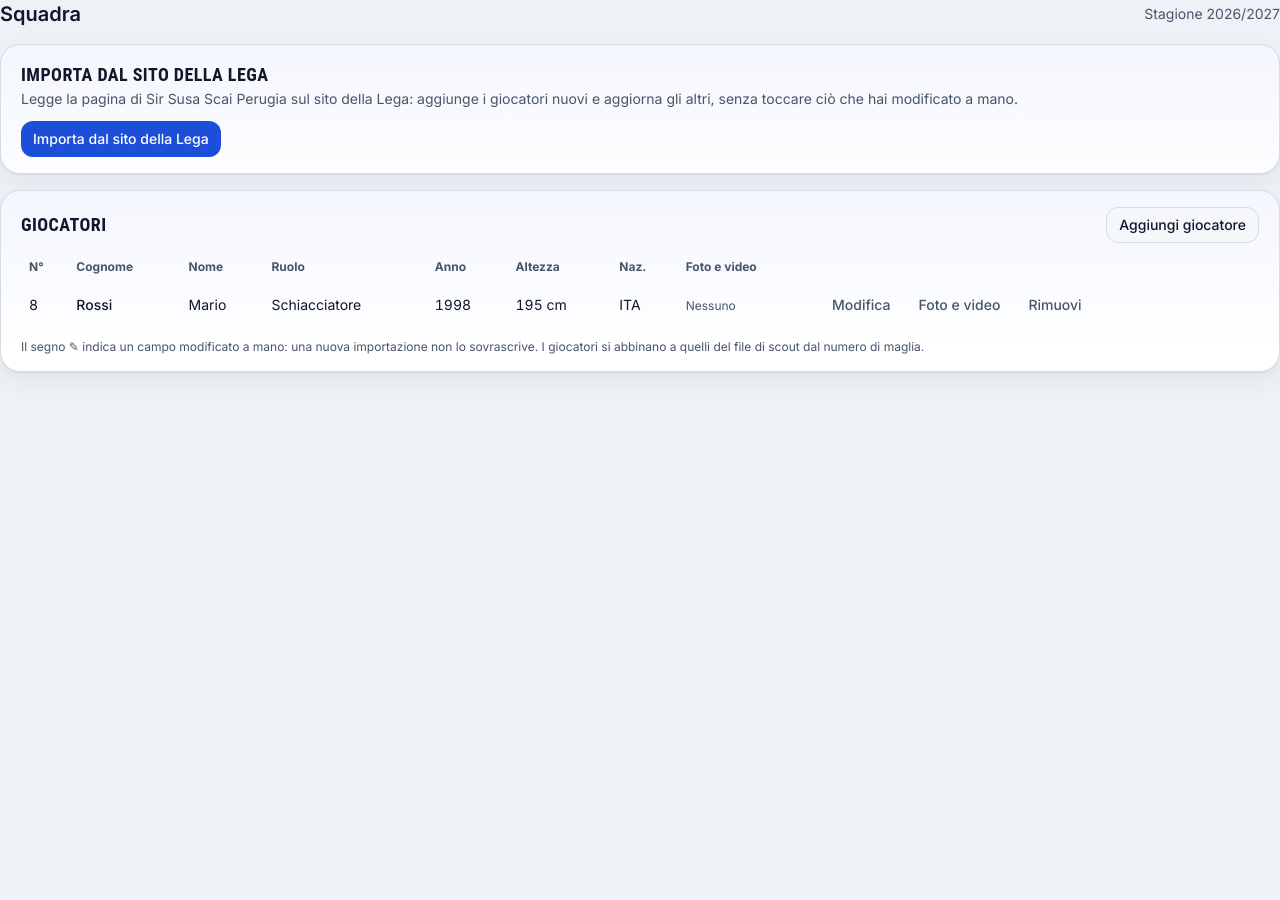
Scenario: page «Squadra» › edits a player: sends only the changed fields; a wrong value is refused before sending
Step 1. Click the button with aria-label "Modifica Rossi Mario" → point(861, 305), box [820, 287, 902, 323]
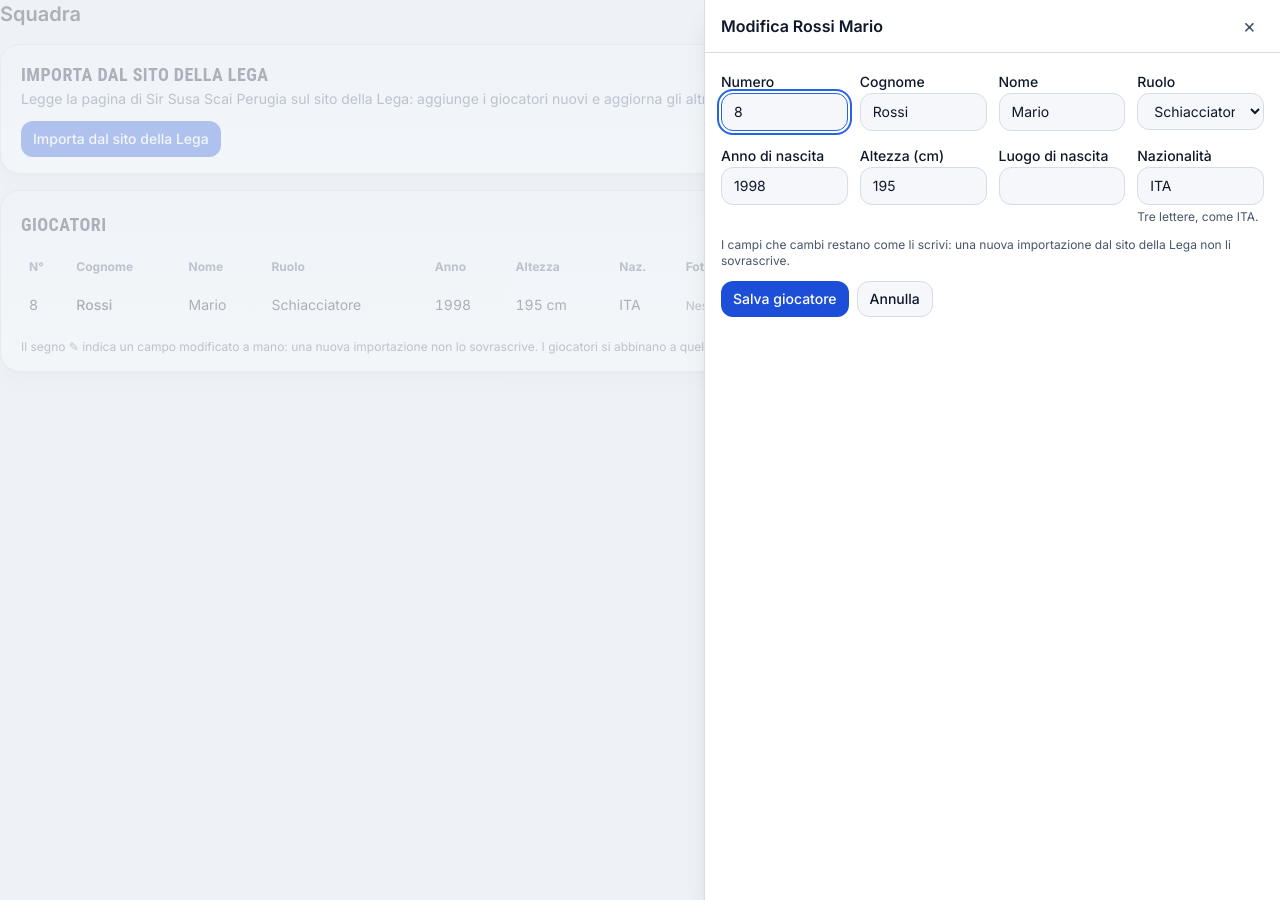
Step 2. Click the button "Salva giocatore" → point(785, 299), box [721, 281, 848, 317]
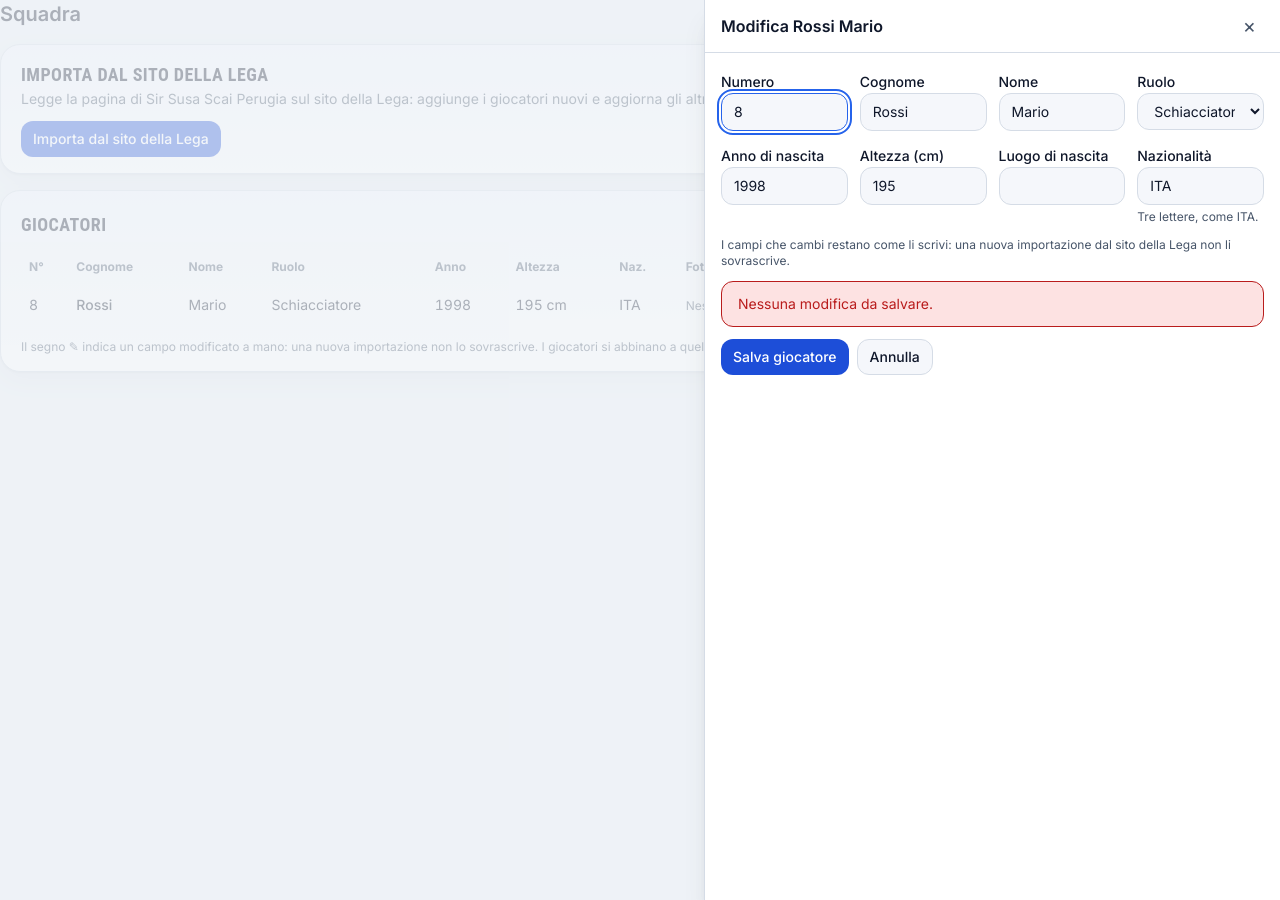
Expected: the text "Nessuna modifica da salvare." is shown, [738, 294, 933, 314]
Step 3. Replace the text in the field labelled "Altezza (cm)" with "30" → point(923, 186), box [860, 167, 987, 205]
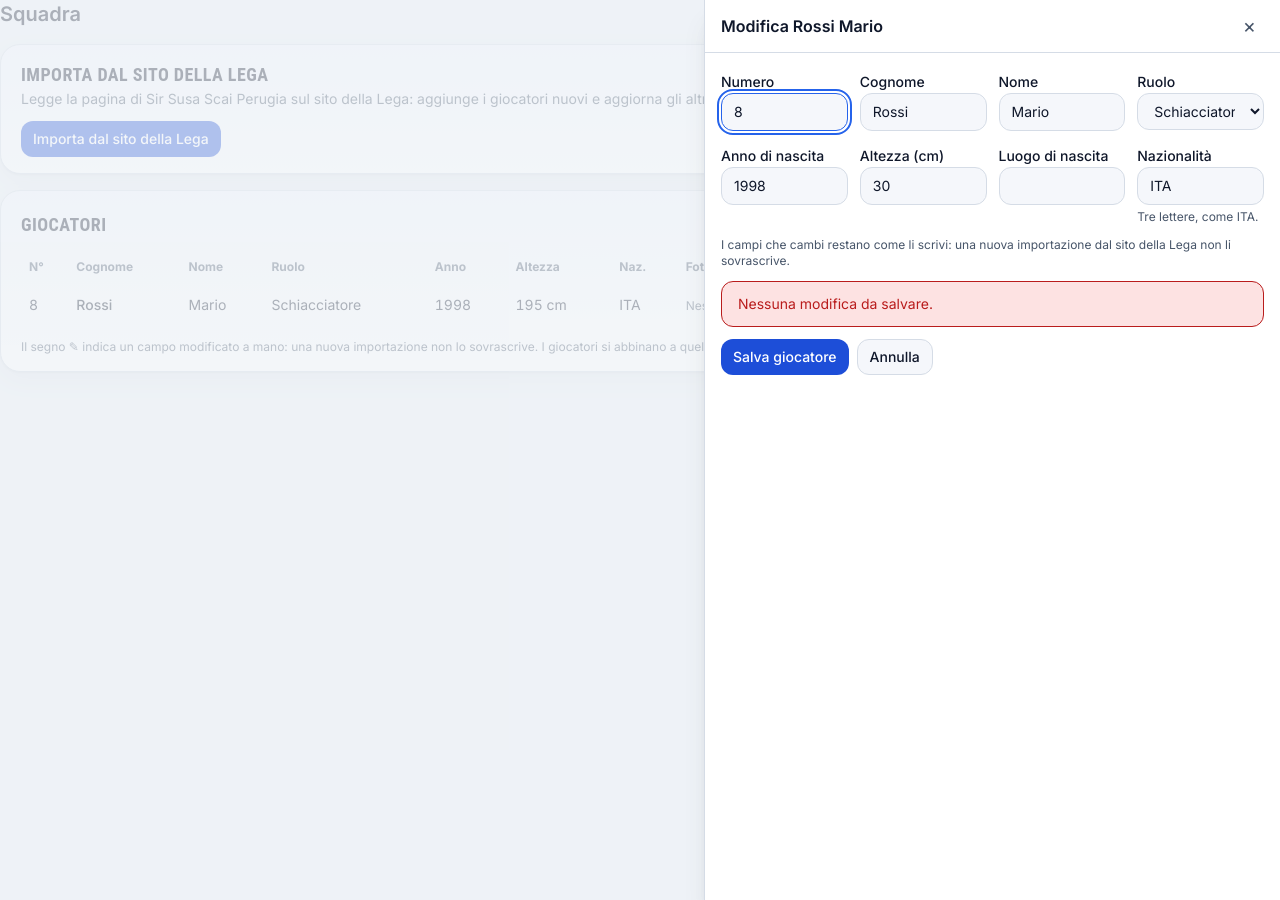
Step 4. Click the button "Salva giocatore" → point(785, 357), box [721, 339, 848, 375]
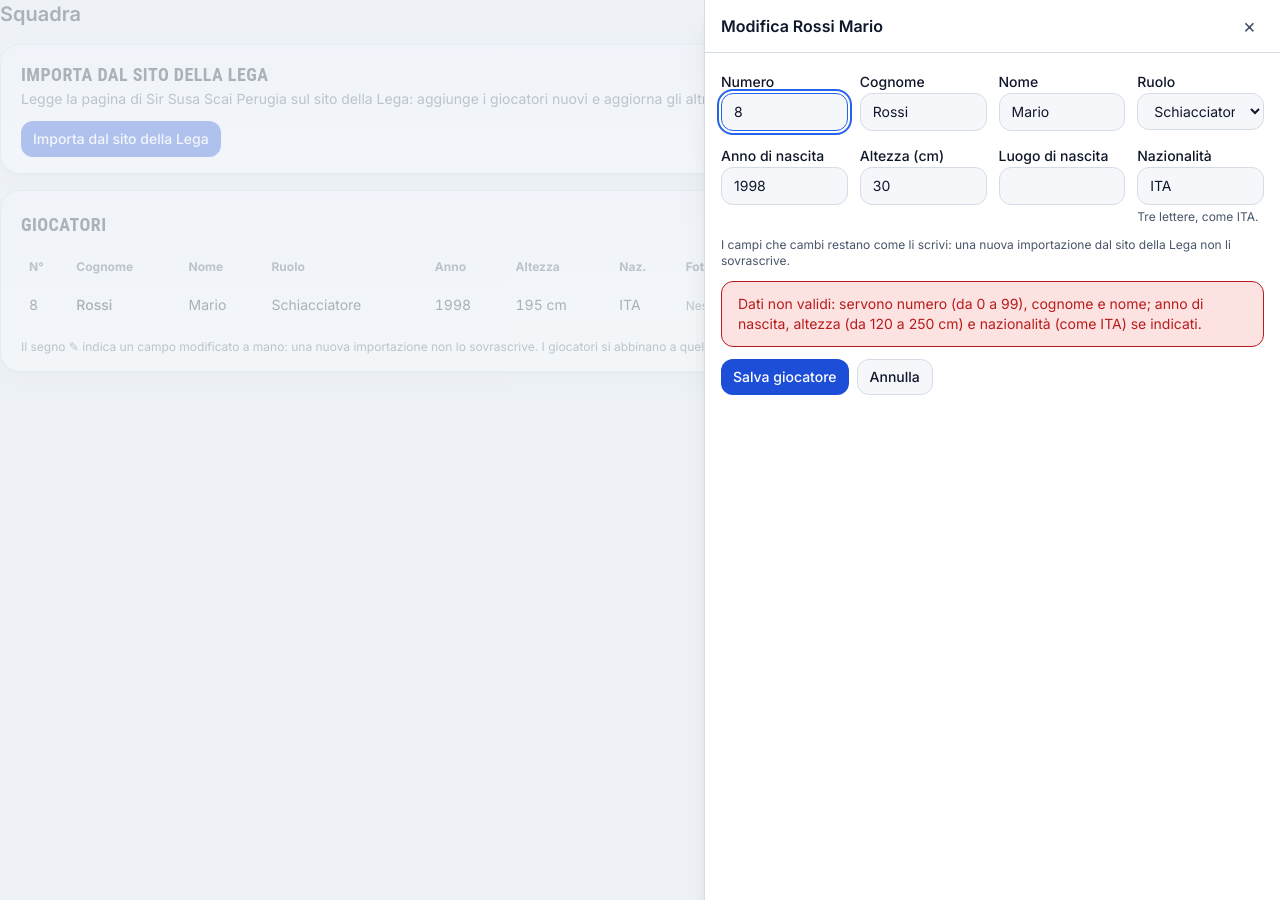
Expected: the text "Dati non validi" is shown, [738, 295, 1204, 332]
Step 5. Replace the text in the field labelled "Altezza (cm)" with "200" → point(923, 186), box [860, 167, 987, 205]
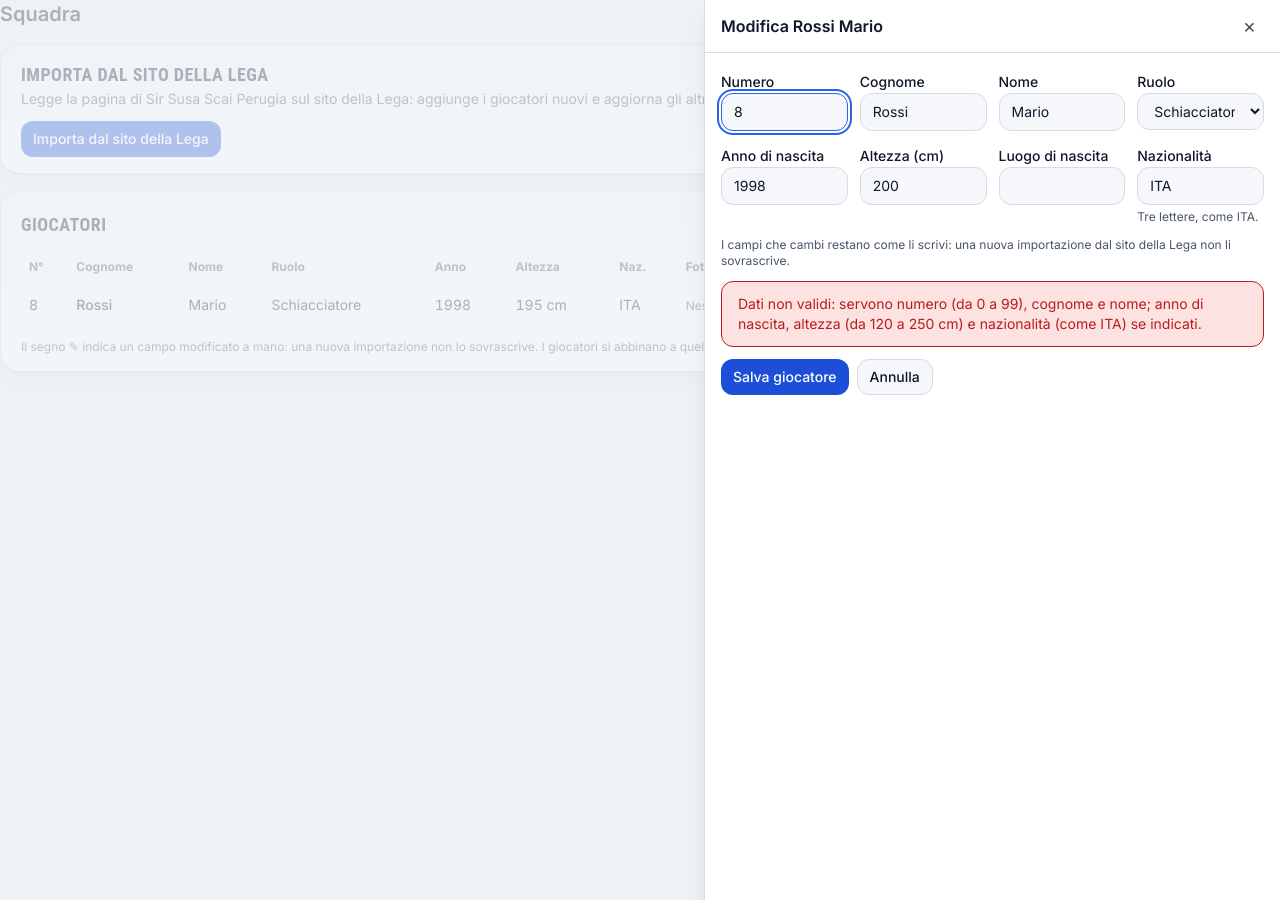
Step 6. Click the button "Salva giocatore" → point(785, 377), box [721, 359, 848, 395]
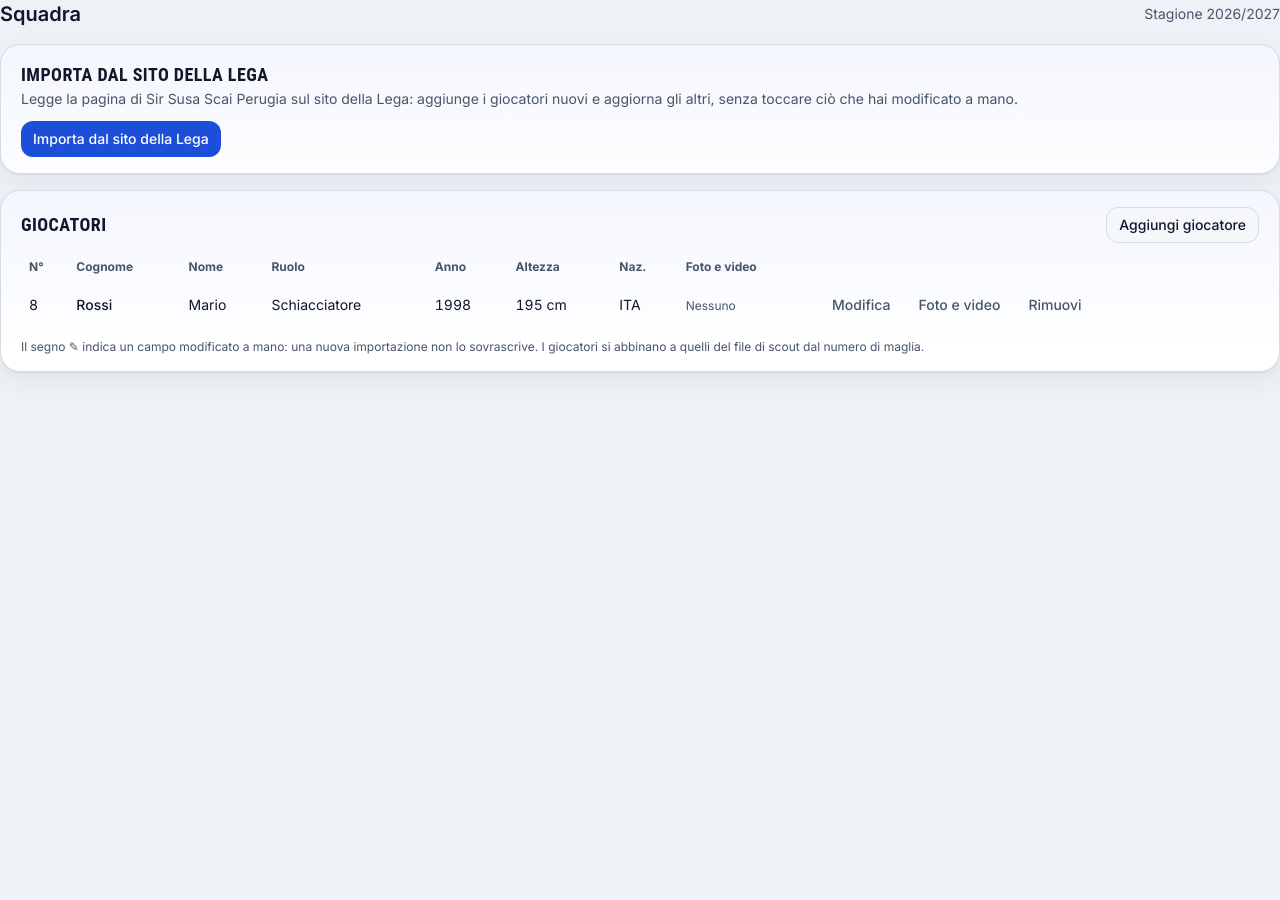
Expected: the button "Salva giocatore" is gone
